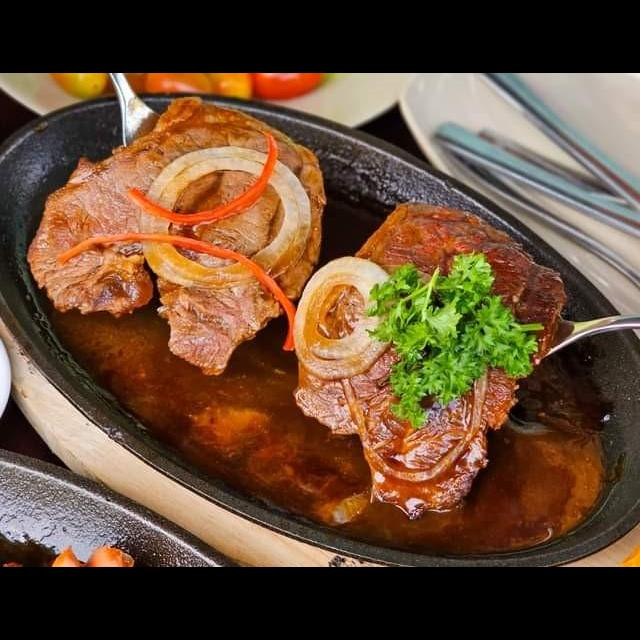thit bo: (286, 199, 570, 522), (23, 92, 330, 378)
